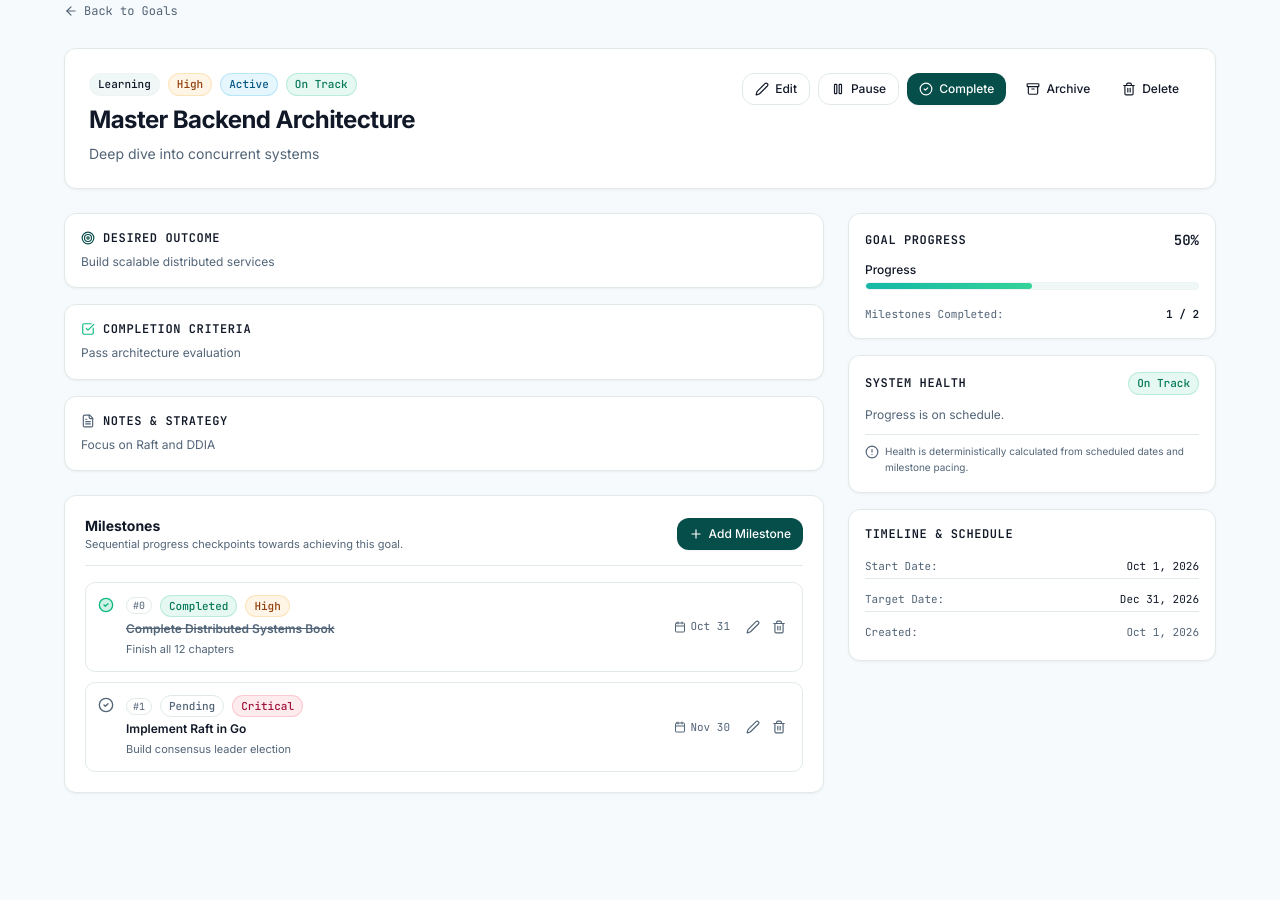
Test: GoalDetailPage Component › opens Edit Goal modal when clicking Edit button
Click the button "Edit" at (776, 89), box [742,73,810,105]
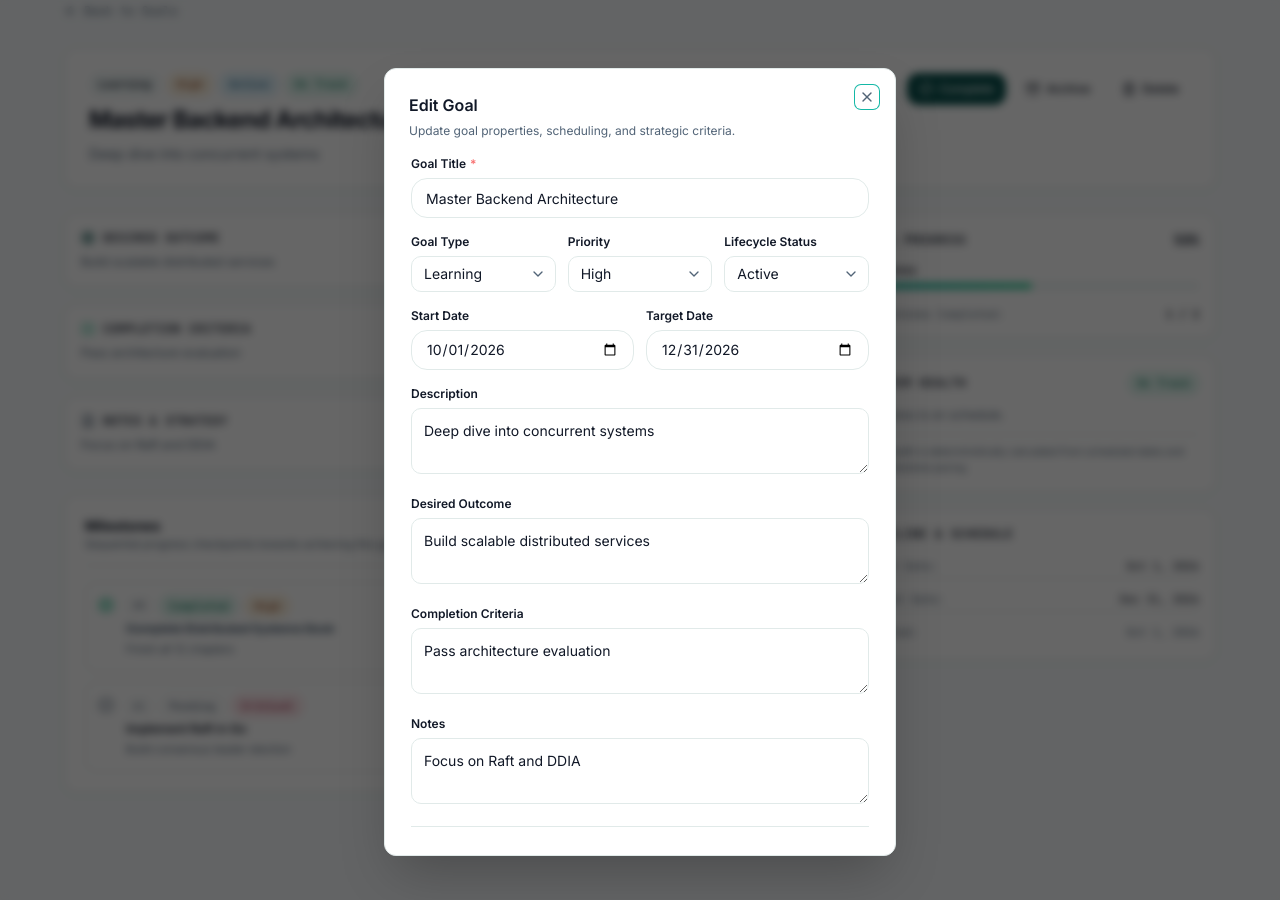
Now the heading "Edit Goal" is shown, box [409,95,478,115]
